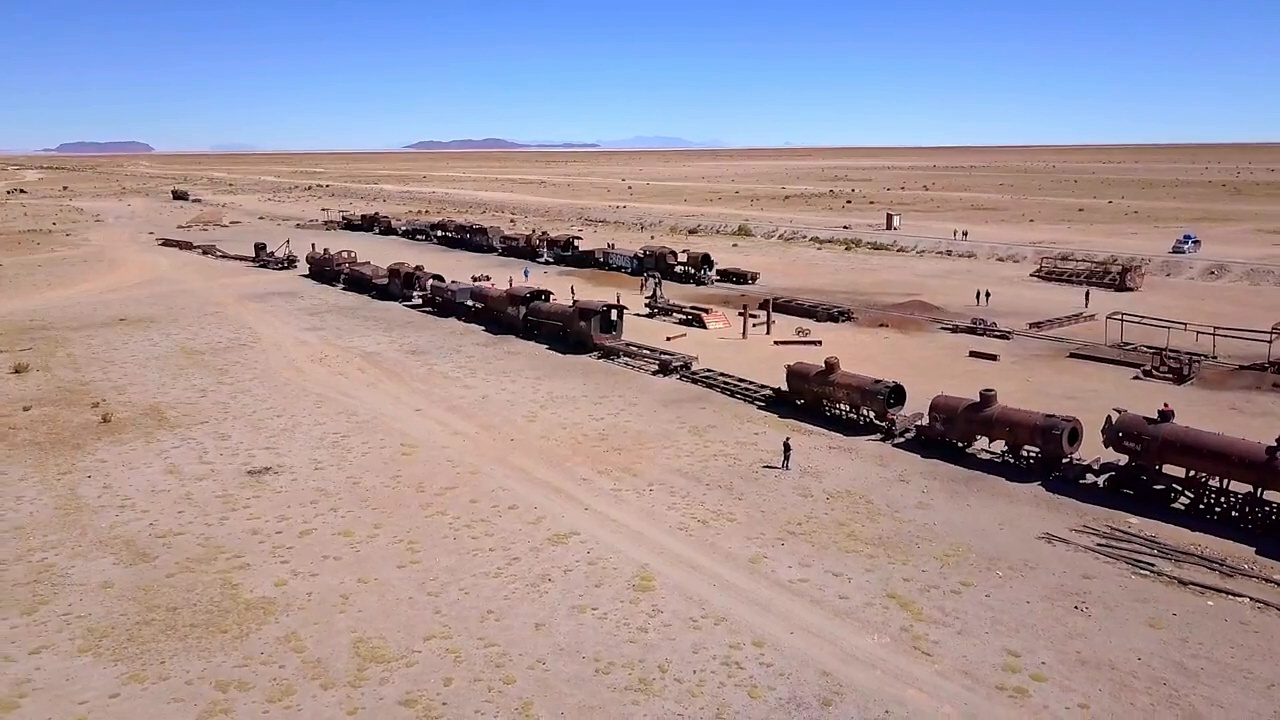insan: (779, 436, 794, 470), (568, 284, 578, 302), (522, 264, 531, 282), (1084, 287, 1091, 308), (974, 288, 982, 306), (984, 288, 991, 308), (953, 227, 960, 240), (959, 229, 965, 241), (964, 229, 969, 241)
